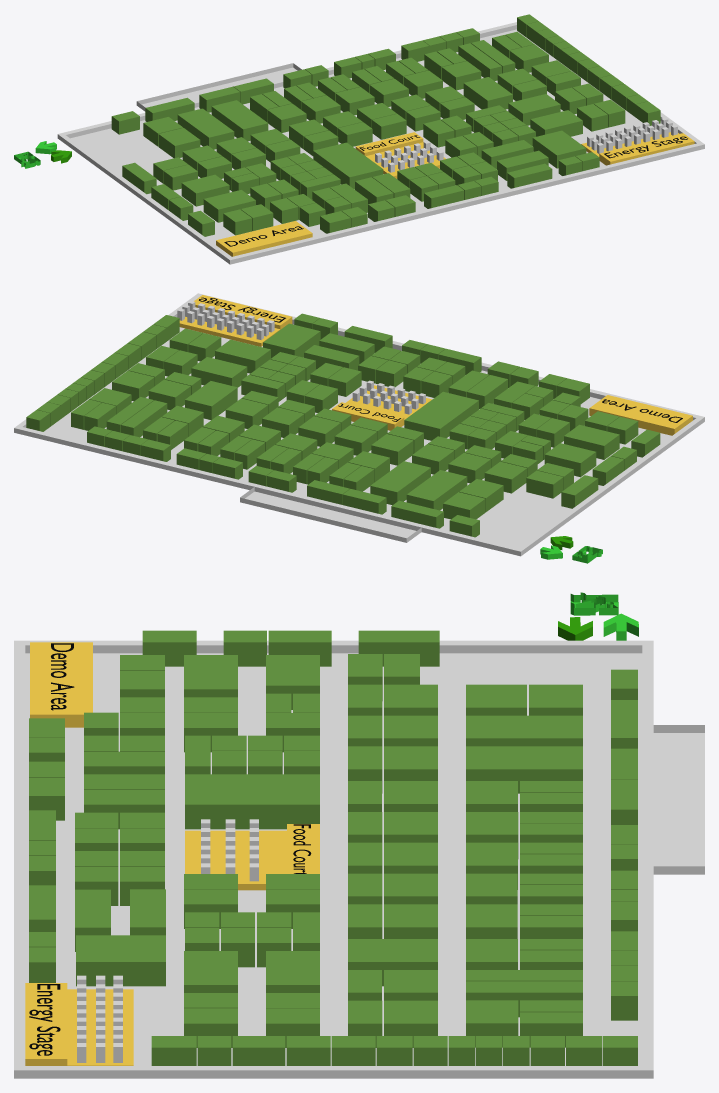
The model's file is OTD Tech Days _Hall_B.glb.
The picture shows the model from 3 angles, top to bottom: view 1: azimuth 30°, elevation 25°; view 2: azimuth 150°, elevation 25°; view 3: azimuth 270°, elevation 25°; orthographic projection. The views are drawn at different scales.
Visible parts, largest first — view 1: Logistikk porter_curve_, Logistikk porter_curve_.001, BOOTHLAYER_curve_.B-4040, Demo_Area.B-1600, Cube.005, Energy_stage.B-1350, BOOTHLAYER_curve_.B-2035, BOOTHLAYER_curve_.B-2025, Food_Court.B-4050, BOOTHLAYER_curve_.B-5100, BOOTHLAYER_curve_.B-3100, Cube (+76 smaller); view 2: Logistikk porter_curve_, Logistikk porter_curve_.001, BOOTHLAYER_curve_.B-4040, Demo_Area.B-1600, Energy_stage.B-1350, Cube.005, BOOTHLAYER_curve_.B-2035, BOOTHLAYER_curve_.B-2025, Food_Court.B-4050, BOOTHLAYER_curve_.B-3100, Cube, BOOTHLAYER_curve_.B-5100 (+81 smaller); view 3: Logistikk porter_curve_.001, Logistikk porter_curve_, BOOTHLAYER_curve_.B-4040, Energy_stage.B-1350, Food_Court.B-4050, Demo_Area.B-1600, BOOTHLAYER_curve_.B-5100, BOOTHLAYER_curve_.B-2035, BOOTHLAYER_curve_.B-2025, BOOTHLAYER_curve_.B-3100, Cube.005, BOOTHLAYER_curve_.B-2124 (+116 smaller).
Boxes of the visible parts, bbox=[...] form: Logistikk porter_curve_: bbox=[57, 22, 704, 264]; Logistikk porter_curve_.001: bbox=[70, 29, 661, 244]; BOOTHLAYER_curve_.B-4040: bbox=[313, 142, 383, 189]; Demo_Area.B-1600: bbox=[216, 221, 312, 256]; Cube.005: bbox=[587, 117, 677, 153]; Energy_stage.B-1350: bbox=[581, 132, 694, 165]; BOOTHLAYER_curve_.B-2035: bbox=[211, 100, 268, 141]; BOOTHLAYER_curve_.B-2025: bbox=[177, 108, 234, 149]; Food_Court.B-4050: bbox=[355, 132, 445, 178]; BOOTHLAYER_curve_.B-5100: bbox=[532, 130, 586, 168]; BOOTHLAYER_curve_.B-3100: bbox=[463, 77, 512, 109]; Cube: bbox=[375, 141, 443, 172]; Logistikk porter_curve_: bbox=[14, 293, 704, 556]; Logistikk porter_curve_.001: bbox=[44, 324, 671, 547]; BOOTHLAYER_curve_.B-4040: bbox=[404, 391, 478, 440]; Demo_Area.B-1600: bbox=[589, 395, 692, 435]; Energy_stage.B-1350: bbox=[179, 295, 292, 346]; Cube.005: bbox=[177, 301, 274, 339]; BOOTHLAYER_curve_.B-2035: bbox=[370, 461, 430, 505]; BOOTHLAYER_curve_.B-2025: bbox=[406, 470, 467, 510]; Food_Court.B-4050: bbox=[332, 385, 431, 430]; BOOTHLAYER_curve_.B-3100: bbox=[185, 381, 237, 419]; Cube: bbox=[352, 380, 425, 414]; BOOTHLAYER_curve_.B-5100: bbox=[263, 323, 320, 358]; Logistikk porter_curve_.001: bbox=[25, 653, 704, 1065]; Logistikk porter_curve_: bbox=[14, 640, 704, 1078]; BOOTHLAYER_curve_.B-4040: bbox=[185, 774, 319, 829]; Energy_stage.B-1350: bbox=[25, 983, 133, 1065]; Food_Court.B-4050: bbox=[185, 824, 319, 890]; Demo_Area.B-1600: bbox=[30, 642, 92, 727]; BOOTHLAYER_curve_.B-5100: bbox=[76, 935, 165, 986]; BOOTHLAYER_curve_.B-2035: bbox=[466, 746, 582, 793]; BOOTHLAYER_curve_.B-2025: bbox=[466, 715, 582, 746]; BOOTHLAYER_curve_.B-3100: bbox=[348, 939, 437, 986]; Cube.005: bbox=[77, 975, 122, 1062]; BOOTHLAYER_curve_.B-2124: bbox=[466, 981, 582, 1017].
Size of the model in its own units: 126 by 3.18 by 76.73.
